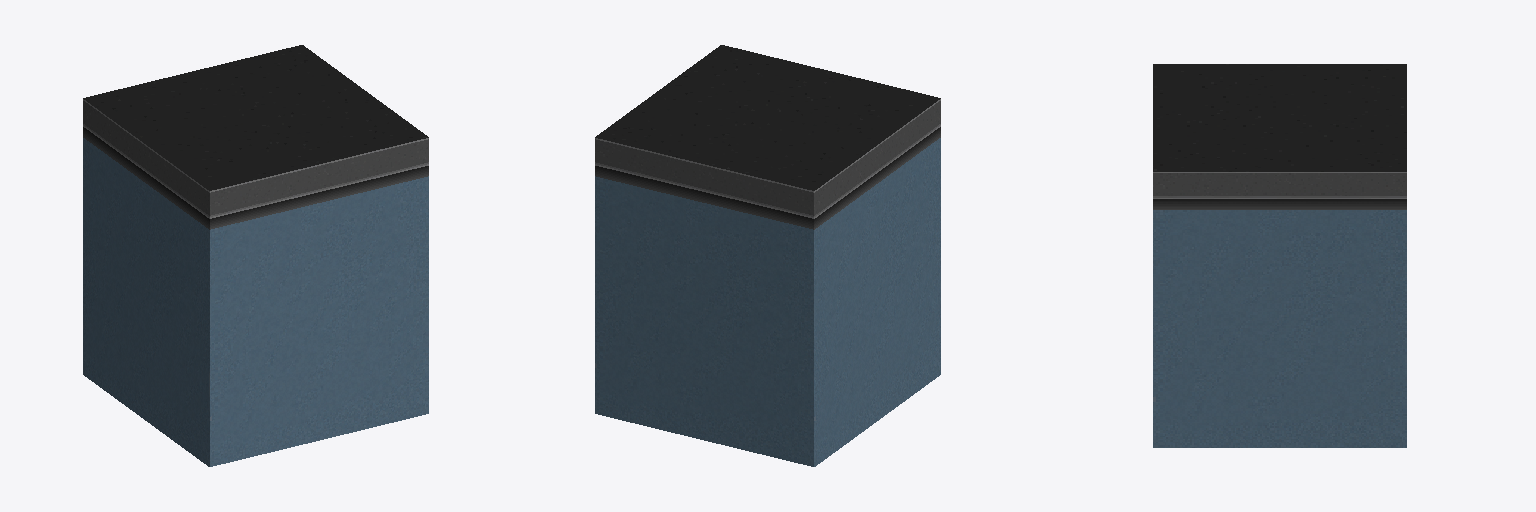
3 views of the same model, side by side, from view 1: azimuth 30°, elevation 25°; view 2: azimuth 150°, elevation 25°; view 3: azimuth 270°, elevation 25° (orthographic).
Visible parts, largest first — view 1: wall; view 2: wall; view 3: wall.
Boxes of the visible parts, x1,y1,x2,y2 form: wall: [83, 45, 428, 466]; wall: [595, 45, 940, 466]; wall: [1153, 64, 1406, 447].
Bounding box in the file's own units: 1 × 1.2 × 1.
2 materials, 1 textured.